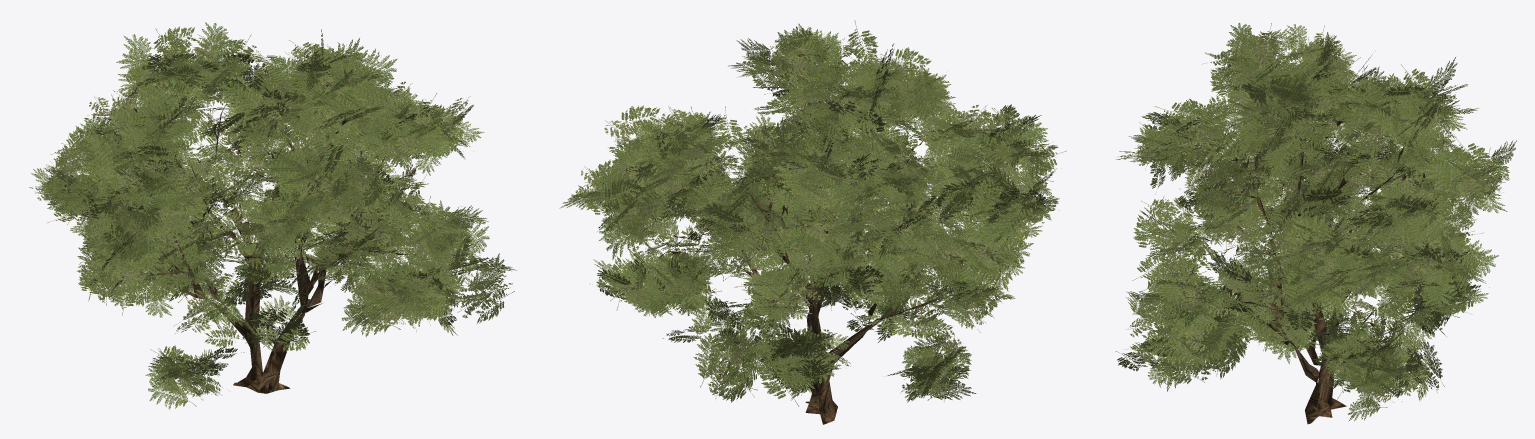
Rendered from tree_jacaranda_airy.glb.
3 renders of one model, left to right at view 1: azimuth 30°, elevation 25°; view 2: azimuth 150°, elevation 25°; view 3: azimuth 270°, elevation 25°, orthographic.
Bounding box in the file's own units: 27.72 × 20.63 × 21.54.
Materials: 3 (3 with a texture image).
